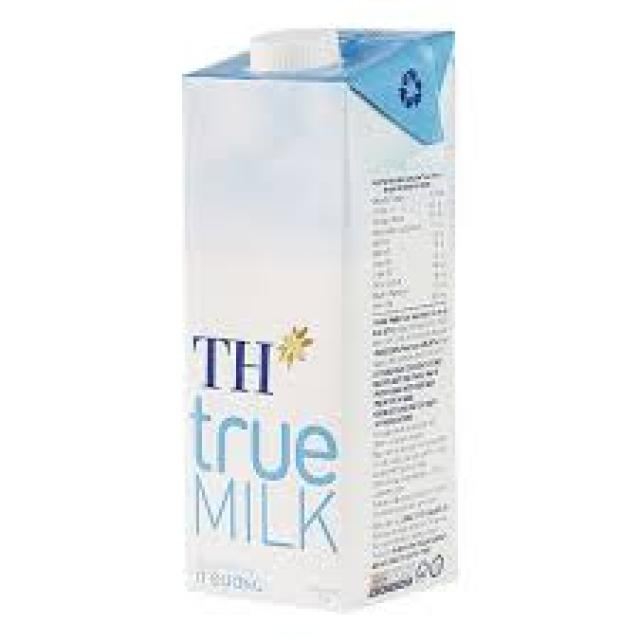non_white_jug: (500, 40, 640, 640)
